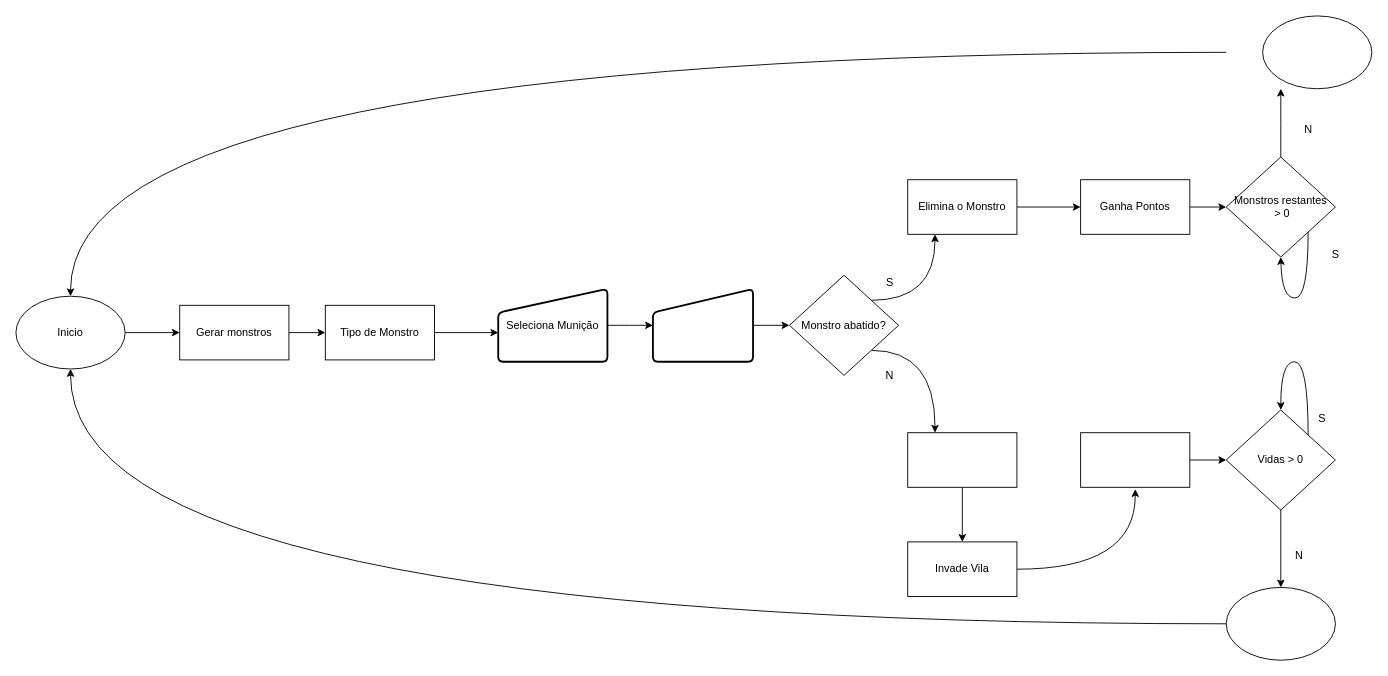
This 1388x676 diagram has some shape labels left out. Here are the shapes that lost their labels. From the top down, the centre of each, then its label:
At point 1317,52: "Vitória".
At point 702,325: "Atirar".
At point 962,459: "Movimenta Monstro".
At point 1135,459: "Perde Vidas".
At point 1280,623: "Derrota".
